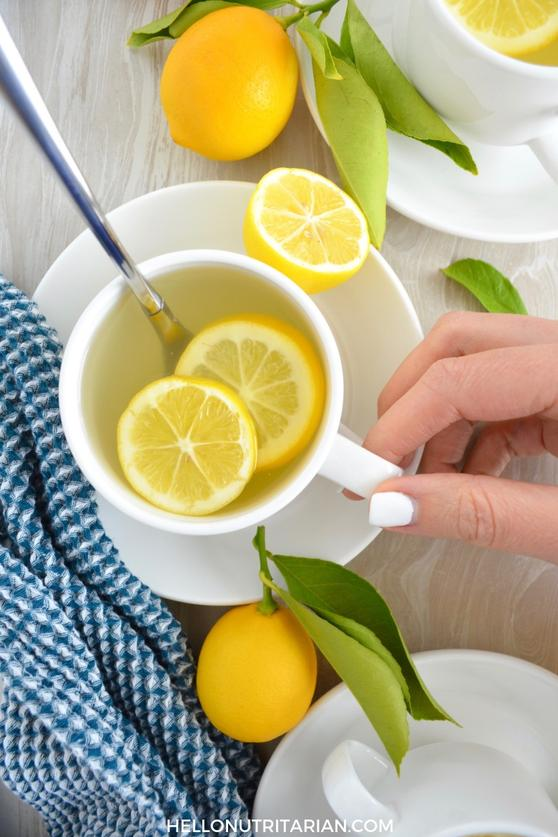lemon: (150, 5, 300, 164)
